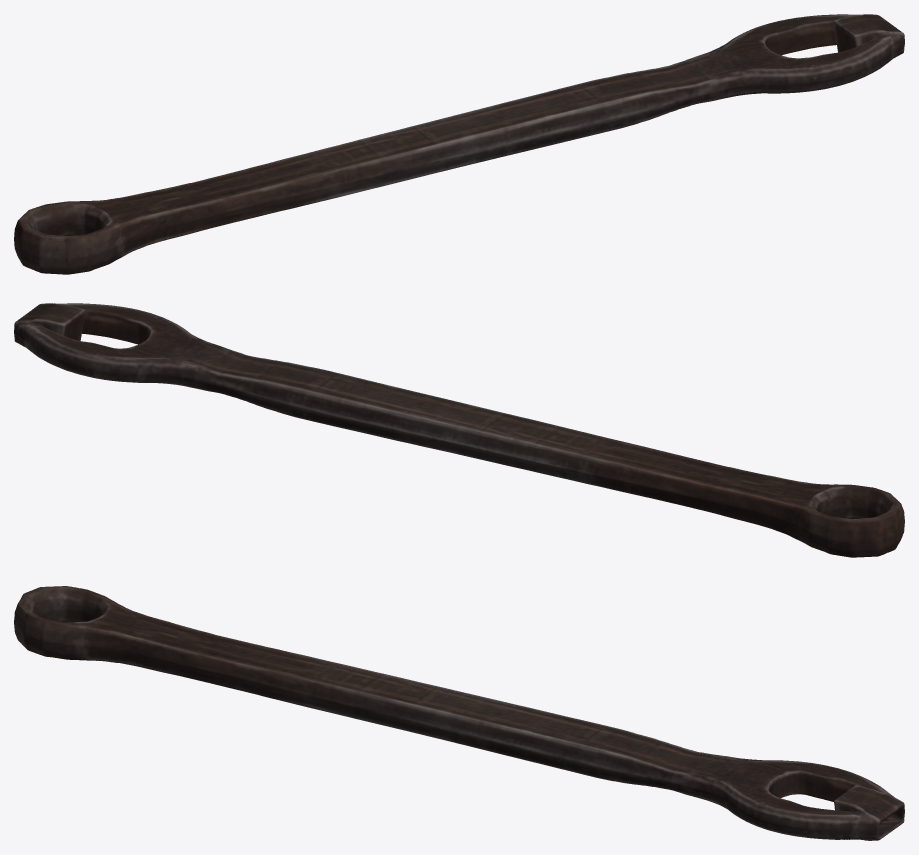
Rendered from wrench.glb.
3 views of the same model, one above another, from view 1: azimuth 30°, elevation 25°; view 2: azimuth 150°, elevation 25°; view 3: azimuth 330°, elevation 25° (orthographic).
Parts seen in each view (by area): view 1: world; view 2: world; view 3: world.
Boxes of the visible parts, left/top/right/bottom form: world: left=14, top=14, right=904, bottom=274; world: left=14, top=303, right=904, bottom=557; world: left=14, top=586, right=904, bottom=840.
Size of the model in its own units: 1 by 0.0408 by 0.1264.
Materials: 1 (1 with a texture image).
